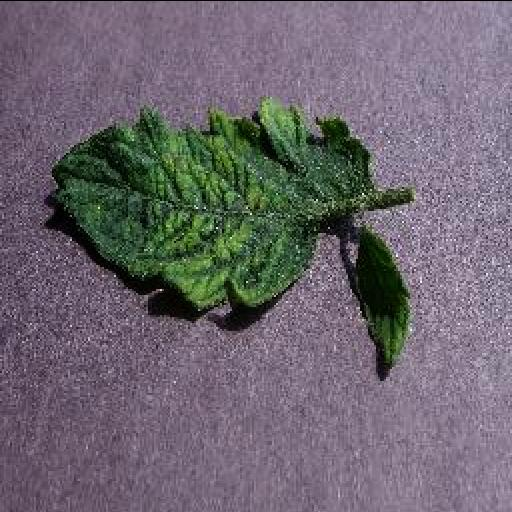Mosaic Virus: (52, 95, 374, 309), (352, 236, 412, 374)
